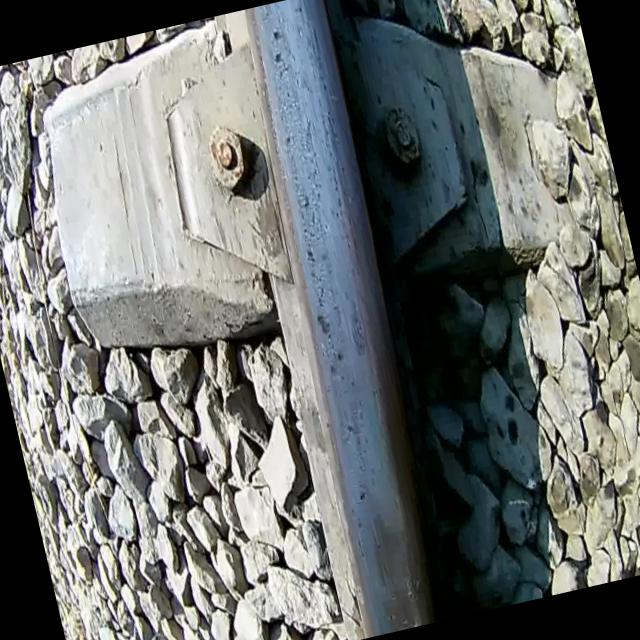Squats: (352, 500, 431, 635)
